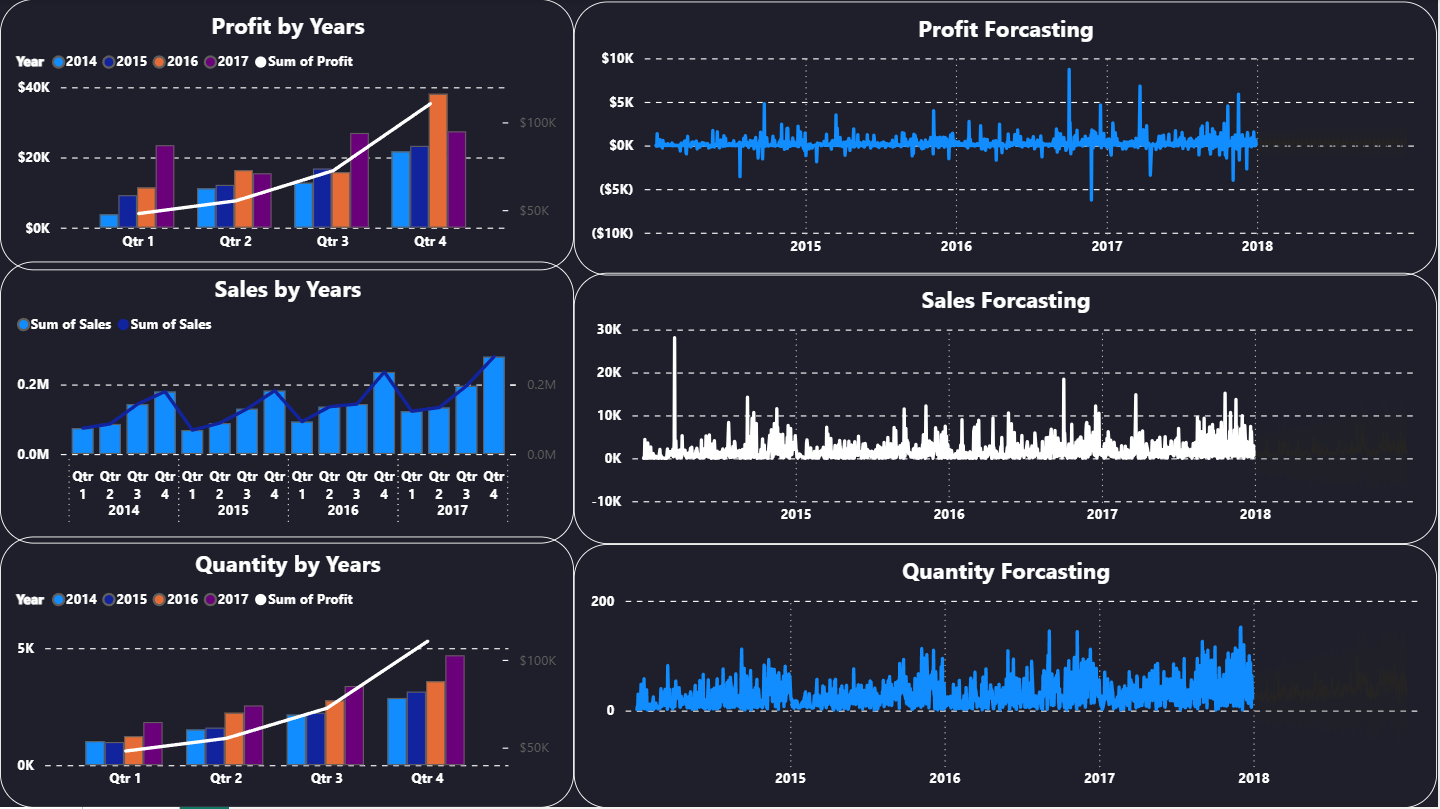

Layout of this report page (visuals, bound fields, positions):
{"tool":"powerbi","page":{"name":"Page 2","canvas":[1280,720],"ordinal":1},"visuals":[{"type":"lineStackedColumnComboChart","title":" Sales by Years","fields":{"Y":["Sum(Orders.Sales)"],"Category":["Orders.Order Date.Variation.Date Hierarchy.Year","Orders.Order Date.Variation.Date Hierarchy.Quarter"],"Y2":["Sum(Orders.Sales)"]},"box":[0,233.8,511.2,251.2],"z":0},{"type":"lineClusteredColumnComboChart","title":"Profit by Years","fields":{"Category":["Orders.Order Date.Variation.Date Hierarchy.Quarter"],"Y2":["Sum(Orders.Profit)"],"Y":["Sum(Orders.Profit)"],"Series":["Orders.Order Date.Variation.Date Hierarchy.Year"]},"box":[0,0,511.4,241.4],"z":1000},{"type":"lineClusteredColumnComboChart","title":"Quantity by Years","fields":{"Category":["Orders.Order Date.Variation.Date Hierarchy.Quarter"],"Y2":["Sum(Orders.Profit)"],"Series":["Orders.Order Date.Variation.Date Hierarchy.Year"],"Y":["Sum(Orders.Quantity)"]},"box":[0,478.6,511.4,241.4],"z":2000},{"type":"lineChart","title":"Sales Forcasting","fields":{"Y":["Sum(Orders.Sales)"],"Category":["Orders.Order Date"]},"box":[511.2,243.8,768.8,241.2],"z":3000},{"type":"lineChart","title":"Profit Forcasting","fields":{"Y":["Sum(Orders.Profit)"],"Category":["Orders.Order Date.Variation.Date Hierarchy.Year","Orders.Order Date.Variation.Date Hierarchy.Quarter","Orders.Order Date.Variation.Date Hierarchy.Month","Orders.Order Date.Variation.Date Hierarchy.Day"]},"box":[511.5,2.4,768.5,243.7],"z":4000},{"type":"lineChart","title":"Quantity Forcasting","fields":{"Category":["Orders.Order Date.Variation.Date Hierarchy.Year","Orders.Order Date.Variation.Date Hierarchy.Quarter","Orders.Order Date.Variation.Date Hierarchy.Month","Orders.Order Date.Variation.Date Hierarchy.Day"],"Y":["Sum(Orders.Quantity)"]},"box":[511.2,485,768.8,235],"z":5000}]}

Visuals, with their boxes in screenshot pixels (x1, y1, x2, y2), scaled from the page's 1280x720 canvas onto the 1440x809 screenshot:
" Sales by Years" lineStackedColumnComboChart: l=0, t=263, r=575, b=545
"Profit by Years" lineClusteredColumnComboChart: l=0, t=0, r=575, b=271
"Quantity by Years" lineClusteredColumnComboChart: l=0, t=538, r=575, b=808
"Sales Forcasting" lineChart: l=575, t=274, r=1439, b=545
"Profit Forcasting" lineChart: l=575, t=3, r=1439, b=277
"Quantity Forcasting" lineChart: l=575, t=545, r=1439, b=808
